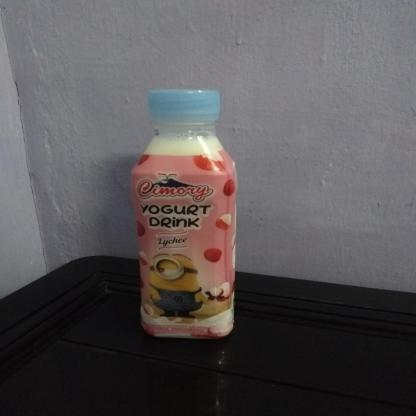plastic: (130, 85, 242, 343)
